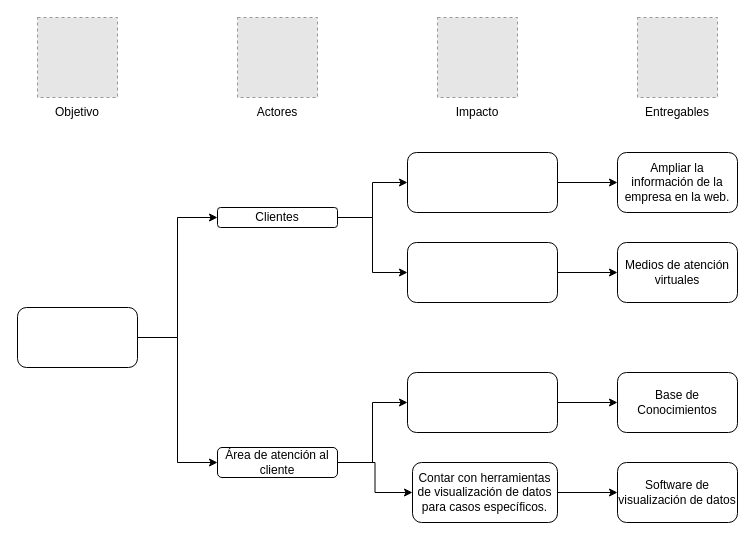
Image size: 755x540. Some labels were removed from this diagram. Grey dashed boxes stand in for pictures. Here are the shapes that lost their labels. From the top down, the centre of each, then its label:
At point 482,182: "Contar con un conocimiento más amplio del modo de trabajo de la empresa.".
At point 482,272: "Acceder al medio de atención al cliente más rápido.".
At point 77,337: "Reducir el tiempo medio de atención al cliente".
At point 482,402: "Contar con una base de conocimiento de preguntas frecuentes.".
